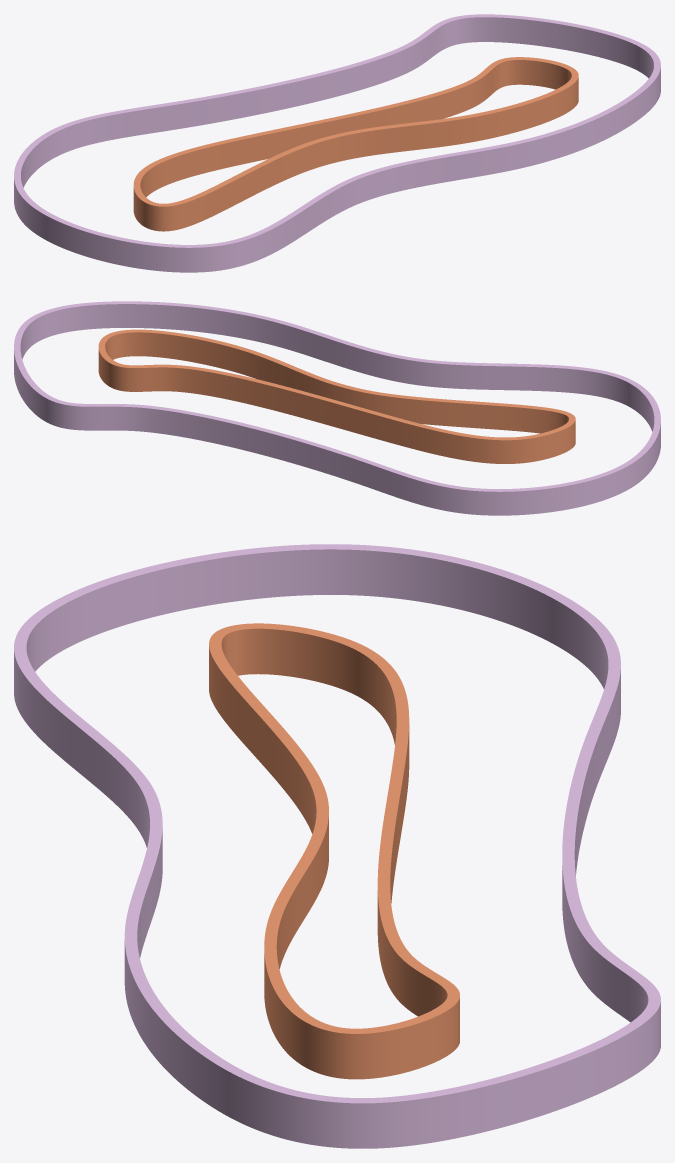
File: race_track.dae
The picture shows the model from 3 angles, top to bottom: view 1: azimuth 30°, elevation 25°; view 2: azimuth 150°, elevation 25°; view 3: azimuth 270°, elevation 25°; orthographic projection. The views are drawn at different scales.
Parts seen in each view (by area): view 1: 5e905d1928795a15c9594770, 5e905d1928795a15c9594770.001; view 2: 5e905d1928795a15c9594770, 5e905d1928795a15c9594770.001; view 3: 5e905d1928795a15c9594770, 5e905d1928795a15c9594770.001.
Part boxes in pixels (<box>): 5e905d1928795a15c9594770: <box>14,14,660,272</box>; 5e905d1928795a15c9594770.001: <box>133,57,578,231</box>; 5e905d1928795a15c9594770: <box>14,301,660,515</box>; 5e905d1928795a15c9594770.001: <box>98,329,575,463</box>; 5e905d1928795a15c9594770: <box>14,544,660,1148</box>; 5e905d1928795a15c9594770.001: <box>209,623,459,1079</box>.
Bounding box in the file's own units: 10.56 × 5.16 × 0.4.
